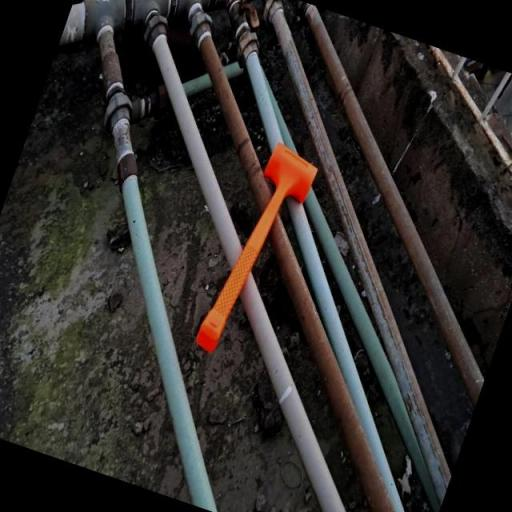mallet: (192, 138, 322, 364)
